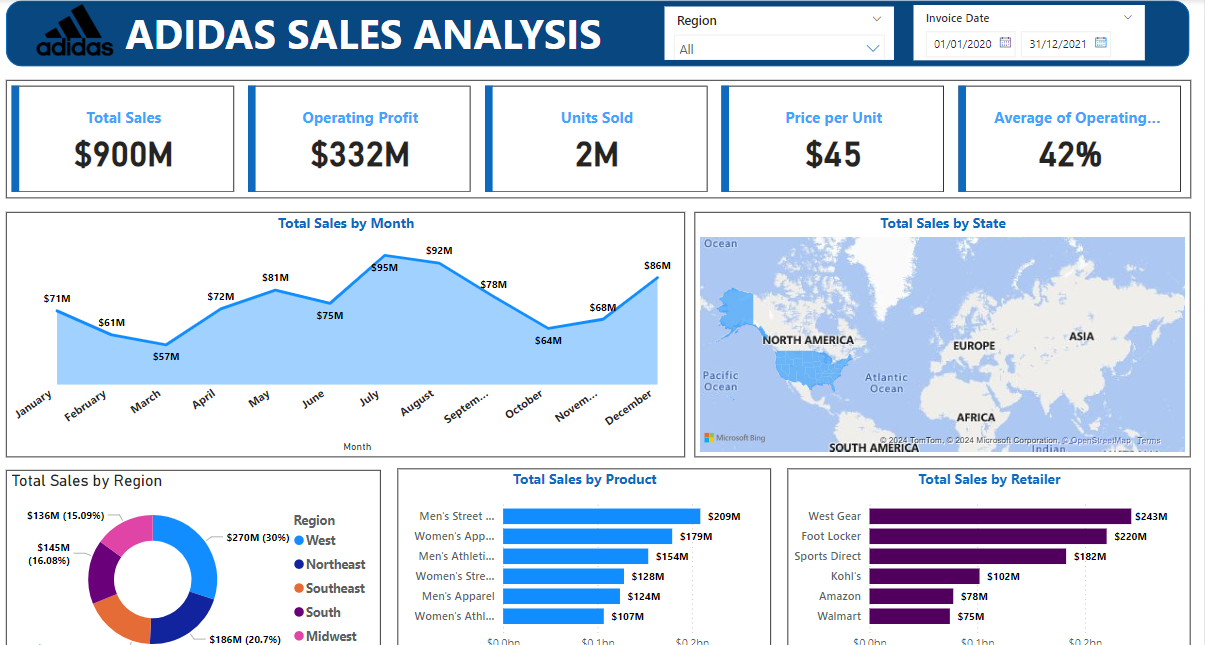

The page's visual inventory and layout, read from the dashboard file:
{"tool":"powerbi","page":{"name":"Page 1","canvas":[1280,720],"ordinal":0},"visuals":[{"type":"shape","box":[10,1.7,1255,70],"z":0},{"type":"textbox","box":[83.3,1.7,611.7,68.3],"z":1000},{"type":"cardVisual","fields":{"Data":["Sum(Data Sales Adidas.Total Sales)","Sum(Data Sales Adidas.Operating Profit)","Sum(Data Sales Adidas.Units Sold)","Avg(Data Sales Adidas.Price per Unit)","Avg(Data Sales Adidas.Operating Margin)"]},"box":[10,86.7,1256.7,125],"z":2000},{"type":"areaChart","title":"Total Sales by Month","fields":{"Category":["Data Sales Adidas.Invoice Date.Variation.Date Hierarchy.Month"],"Y":["Sum(Data Sales Adidas.Total Sales)"]},"box":[10,225.7,720,260],"z":3000},{"type":"filledMap","title":"Total Sales by State","fields":{"Category":["Data Sales Adidas.State"]},"box":[740,225.7,525.7,260],"z":3001},{"type":"donutChart","fields":{"Category":["Data Sales Adidas.Region"],"Y":["Sum(Data Sales Adidas.Total Sales)"]},"box":[10,500,397.1,212.9],"z":3002},{"type":"barChart","fields":{"Category":["Data Sales Adidas.Product"],"Y":["Sum(Data Sales Adidas.Total Sales)"]},"box":[424.3,498.6,395.7,212.9],"z":3003},{"type":"barChart","fields":{"Category":["Data Sales Adidas.Retailer"],"Y":["Sum(Data Sales Adidas.Total Sales)"]},"box":[838.6,498.6,427.1,212.9],"z":3004},{"type":"slicer","fields":{"Values":["Data Sales Adidas.Region"]},"box":[708.3,8.3,243.3,56.7],"z":3005},{"type":"slicer","fields":{"Values":["Data Sales Adidas.Invoice Date"]},"box":[971.7,6.7,245,58.3],"z":3006},{"type":"image","box":[28.3,0,108.3,65],"z":3007}]}

Visuals, with their boxes in screenshot pixels (x1, y1, x2, y2):
shape: 34 2 1186 66
textbox: 102 2 663 64
cardVisual - Sum(Data Sales Adidas.Total Sales) x Sum(Data Sales Adidas.Operating Profit): 34 80 1188 194
"Total Sales by Month" areaChart: 34 207 695 446
"Total Sales by State" filledMap: 704 207 1187 446
donutChart - Data Sales Adidas.Region x Sum(Data Sales Adidas.Total Sales): 34 459 399 644
barChart - Data Sales Adidas.Product x Sum(Data Sales Adidas.Total Sales): 415 458 778 644
barChart - Data Sales Adidas.Retailer x Sum(Data Sales Adidas.Total Sales): 795 458 1187 644
slicer - Data Sales Adidas.Region: 675 8 899 60
slicer - Data Sales Adidas.Invoice Date: 917 6 1142 60
image: 51 0 150 60
